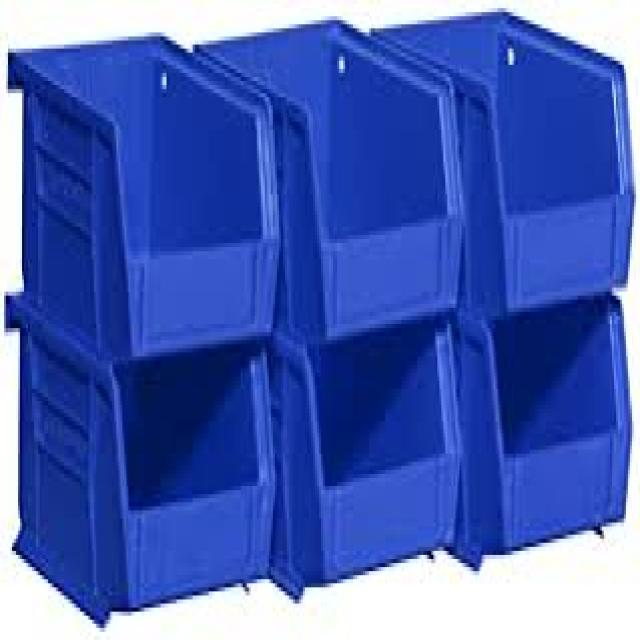basket: (5, 285, 282, 626), (7, 29, 289, 363), (271, 320, 461, 593), (457, 296, 632, 565)
